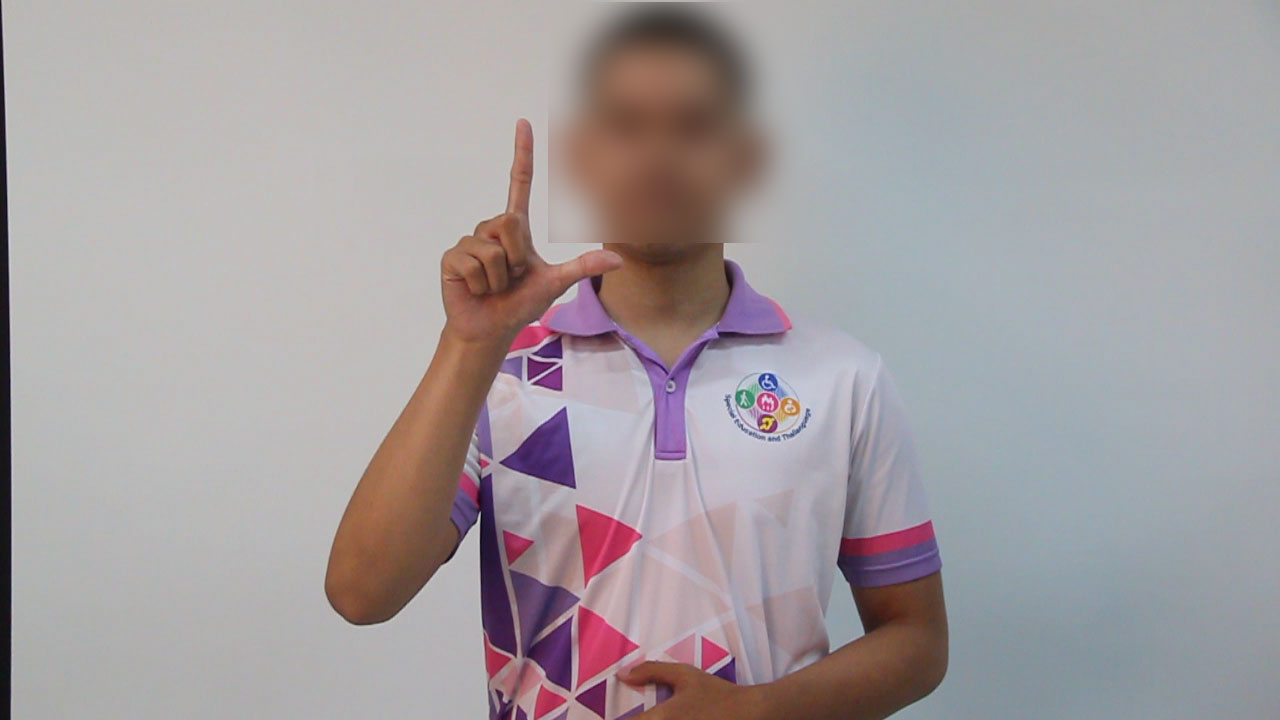lor: (394, 91, 657, 365)
